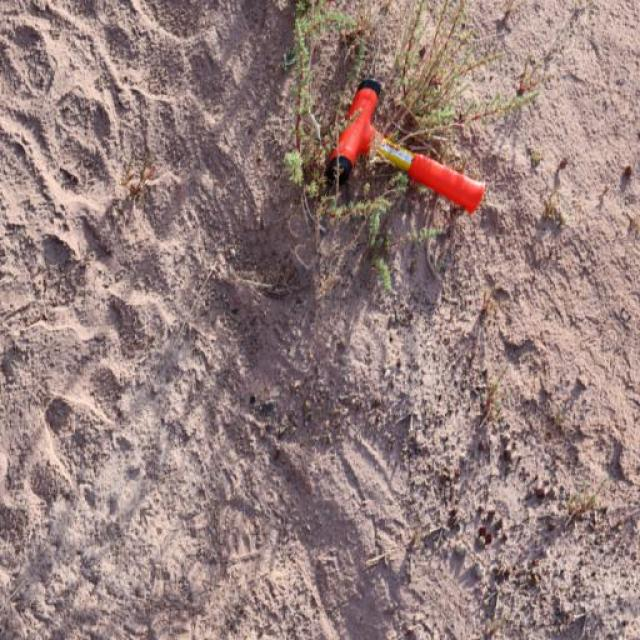mallet: (322, 76, 487, 216)
